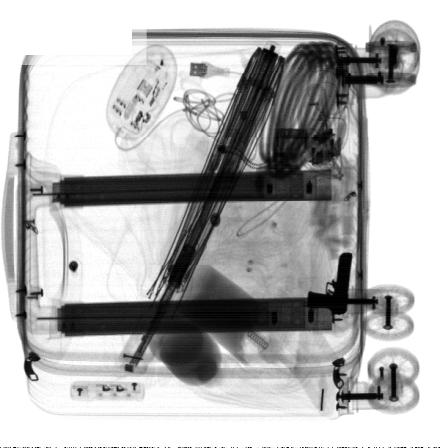Gun: (307, 250, 353, 314)
